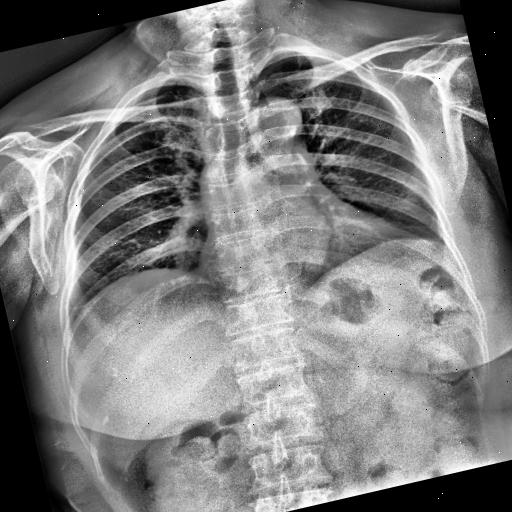0- Aortic enlargement: (239, 89, 307, 161), (244, 92, 306, 148), (248, 92, 307, 148)
3- Cardiomegaly: (186, 188, 417, 302)
